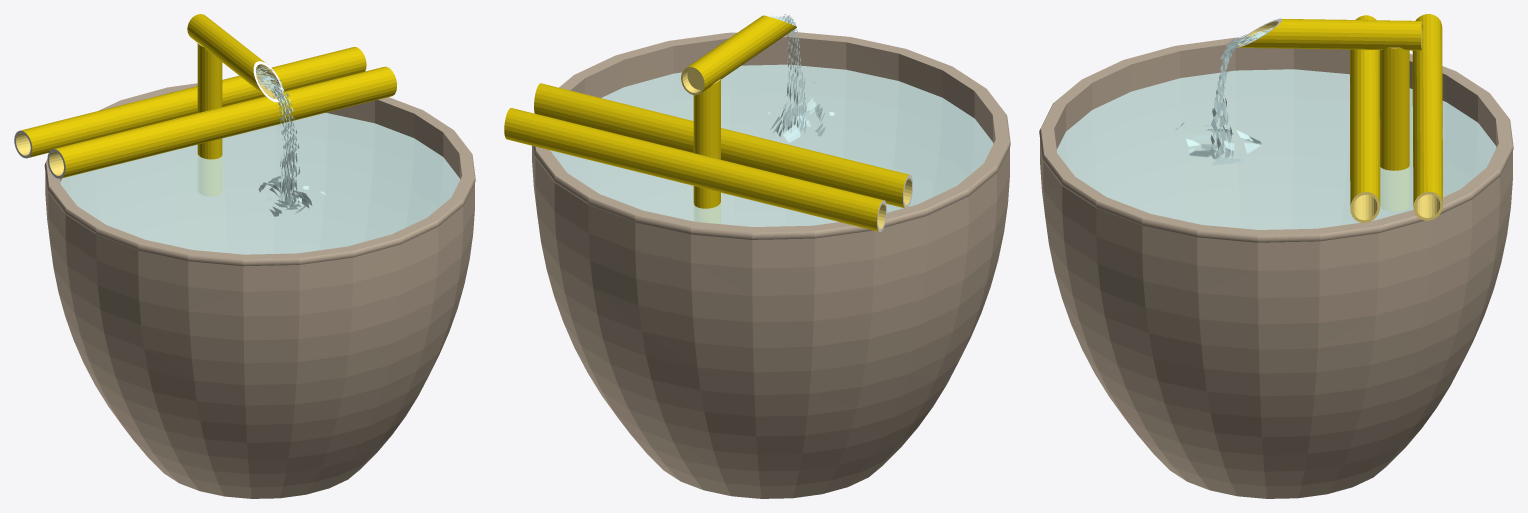
File: sh-contrib-water-fountain.glb
The picture shows the model from 3 angles, left to right: view 1: azimuth 30°, elevation 25°; view 2: azimuth 150°, elevation 25°; view 3: azimuth 270°, elevation 25°; orthographic projection. The views are drawn at different scales.
Visible parts, largest first — view 1: Mesh773_Group1_Model, Mesh55_Group1_Model, Mesh792_Group1_Model; view 2: Mesh773_Group1_Model, Mesh55_Group1_Model, Mesh792_Group1_Model; view 3: Mesh773_Group1_Model, Mesh55_Group1_Model, Mesh792_Group1_Model.
Boxes of the visible parts, box(x1,y1,x2,y2) form: Mesh773_Group1_Model: box(44, 83, 475, 498); Mesh55_Group1_Model: box(60, 66, 459, 254); Mesh792_Group1_Model: box(14, 14, 396, 195); Mesh773_Group1_Model: box(532, 31, 1010, 498); Mesh55_Group1_Model: box(550, 14, 993, 226); Mesh792_Group1_Model: box(504, 15, 912, 231); Mesh773_Group1_Model: box(1039, 37, 1513, 498); Mesh55_Group1_Model: box(1057, 27, 1496, 229); Mesh792_Group1_Model: box(1237, 14, 1442, 222).
Size of the model in its own units: 1 by 1 by 1.
